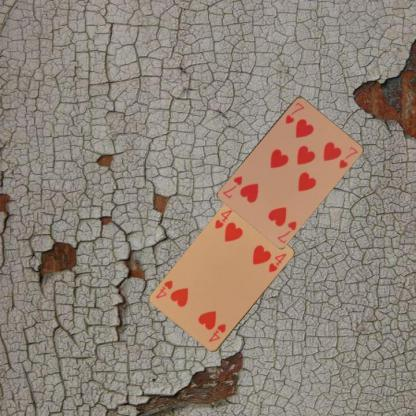4h: (206, 321, 228, 343), (212, 208, 233, 230)
7h: (274, 218, 298, 245), (283, 100, 306, 124)
